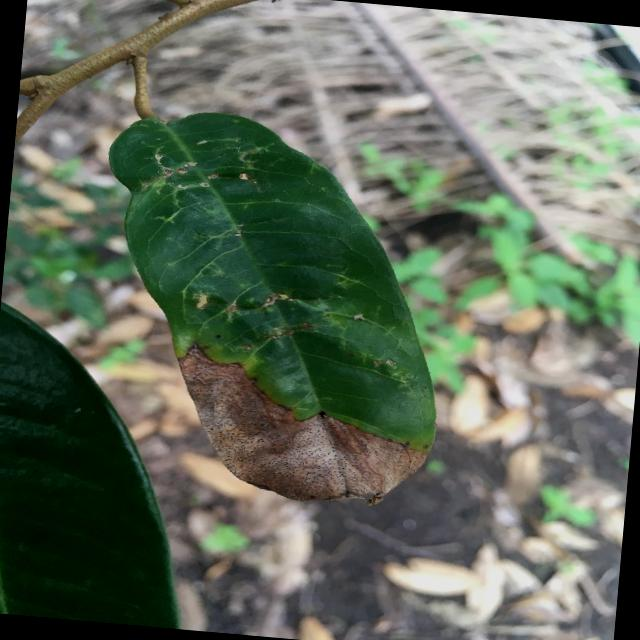Leaf Blight: (73, 93, 470, 516)
